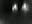person: (23, 3, 29, 16), (12, 3, 19, 14)
